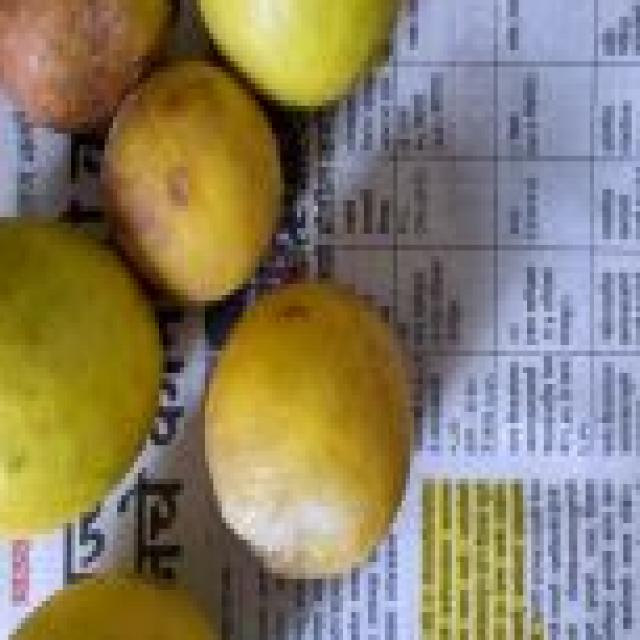Bad_Lime-0-1-day: (201, 278, 414, 584)
Good_Lime-10-21-days: (0, 217, 163, 540), (195, 0, 397, 111)
